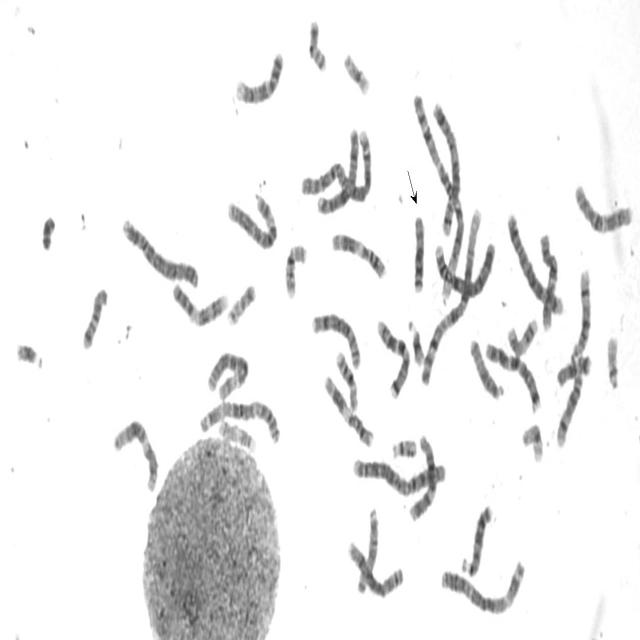A1: (419, 200, 486, 386), (409, 90, 467, 294)
A2: (298, 122, 371, 207), (349, 448, 448, 497)
A3: (437, 552, 527, 617), (196, 391, 281, 446)
B4: (119, 210, 200, 290), (432, 228, 497, 302)
B5: (504, 205, 564, 320), (430, 95, 462, 240)
C10: (571, 176, 635, 236), (537, 227, 560, 331)
C11: (321, 367, 375, 450), (328, 225, 388, 281)
C12: (110, 411, 159, 495), (406, 427, 438, 523)
C6: (224, 187, 279, 252), (204, 342, 250, 402)
C7: (481, 334, 542, 414), (373, 311, 411, 401)
C8: (345, 533, 405, 600), (308, 305, 362, 371)
C9: (232, 43, 286, 106), (168, 276, 230, 329)
D13: (458, 497, 494, 579), (410, 207, 426, 295)
D14: (553, 362, 585, 450), (568, 261, 593, 363)
D15: (466, 331, 506, 402), (354, 501, 381, 597)
E16: (333, 344, 359, 413), (281, 236, 308, 300)
E17: (215, 412, 258, 454), (504, 310, 540, 359)
E18: (79, 280, 109, 352), (554, 347, 592, 389)
F19: (340, 44, 371, 98), (518, 416, 544, 465)
F20: (224, 276, 257, 328), (305, 12, 328, 74)
G21: (12, 333, 44, 373), (404, 312, 426, 368)
G22: (603, 327, 621, 392), (388, 431, 419, 461)
X: (314, 121, 361, 216)
Y: (38, 207, 56, 252)
